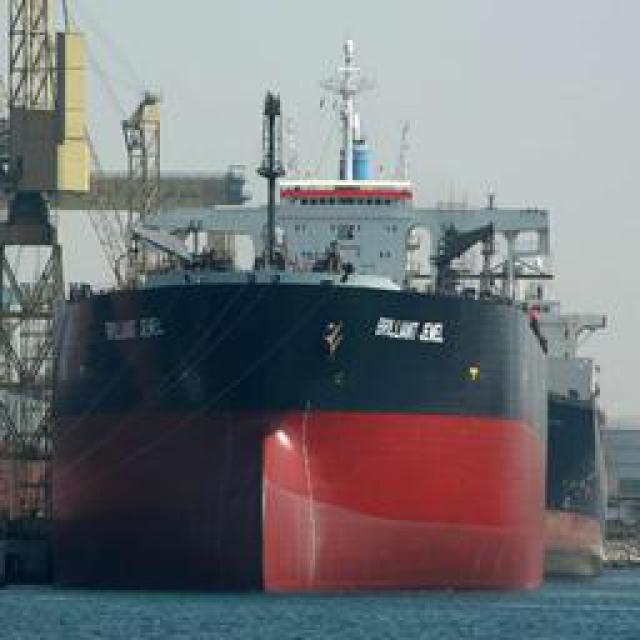Ship: (47, 106, 560, 596)
